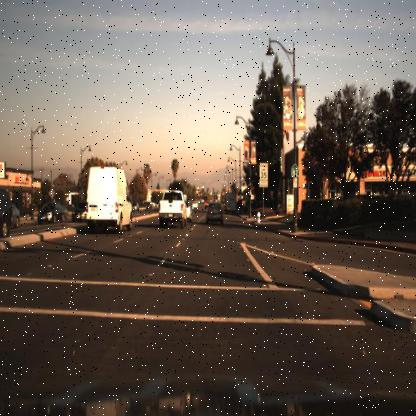car: (75, 146, 138, 242), (155, 181, 189, 221), (37, 198, 68, 224), (0, 191, 19, 233), (70, 196, 90, 227), (223, 184, 240, 212), (206, 203, 222, 230), (72, 200, 87, 222)
truck: (82, 164, 137, 235), (223, 189, 238, 215)
